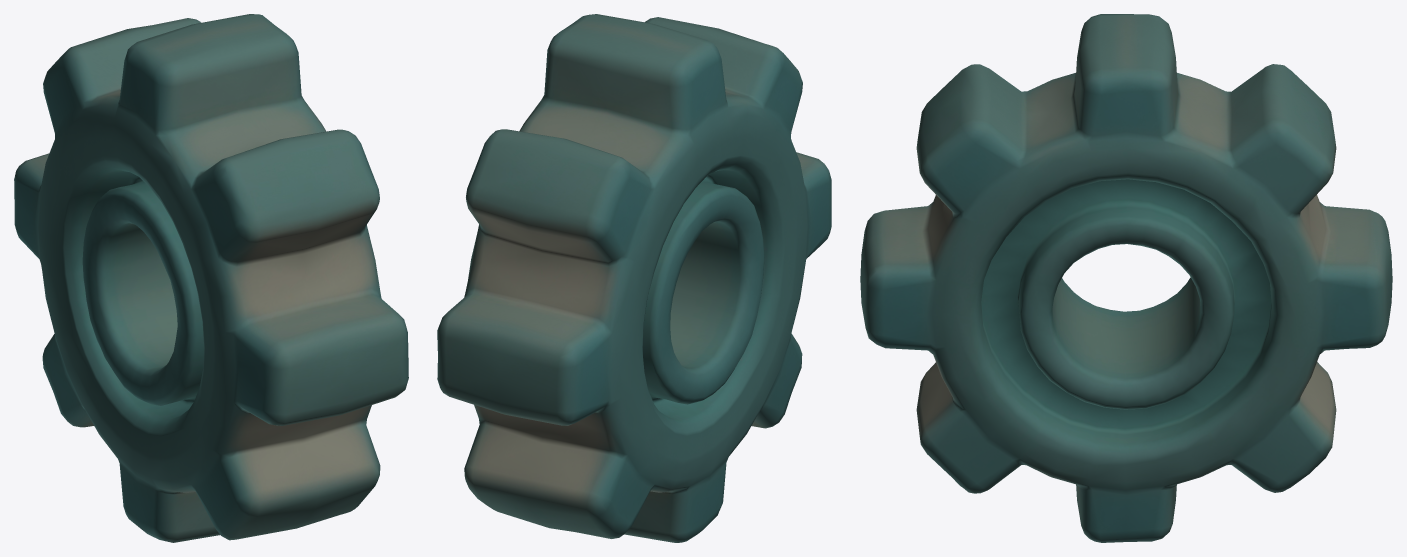
The model's file is icon-gear.glb.
3 renders of one model, left to right at view 1: azimuth 30°, elevation 25°; view 2: azimuth 150°, elevation 25°; view 3: azimuth 270°, elevation 25°, orthographic.
Visible parts, largest first — view 1: tripo_node_kodyurd-model-46____________________; view 2: tripo_node_kodyurd-model-46____________________; view 3: tripo_node_kodyurd-model-46____________________.
Boxes of the visible parts, left/top/right/bottom form: tripo_node_kodyurd-model-46____________________: left=14, top=14, right=408, bottom=542; tripo_node_kodyurd-model-46____________________: left=437, top=14, right=831, bottom=542; tripo_node_kodyurd-model-46____________________: left=860, top=14, right=1392, bottom=542.
Bounding box in the file's own units: 0.3418 × 0.998 × 0.998.
1 material, 1 textured.
